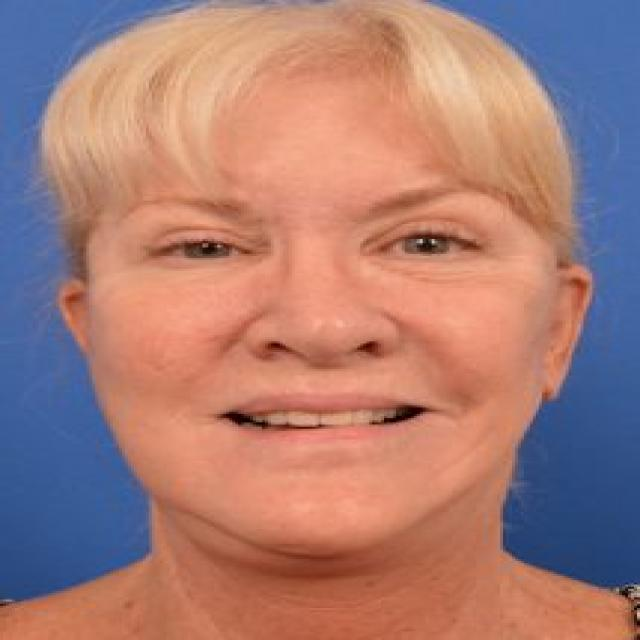normal_face: (109, 83, 527, 544)
